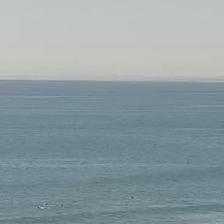surfer: (37, 206, 43, 209), (44, 202, 48, 206), (60, 204, 63, 207), (130, 196, 134, 198)
